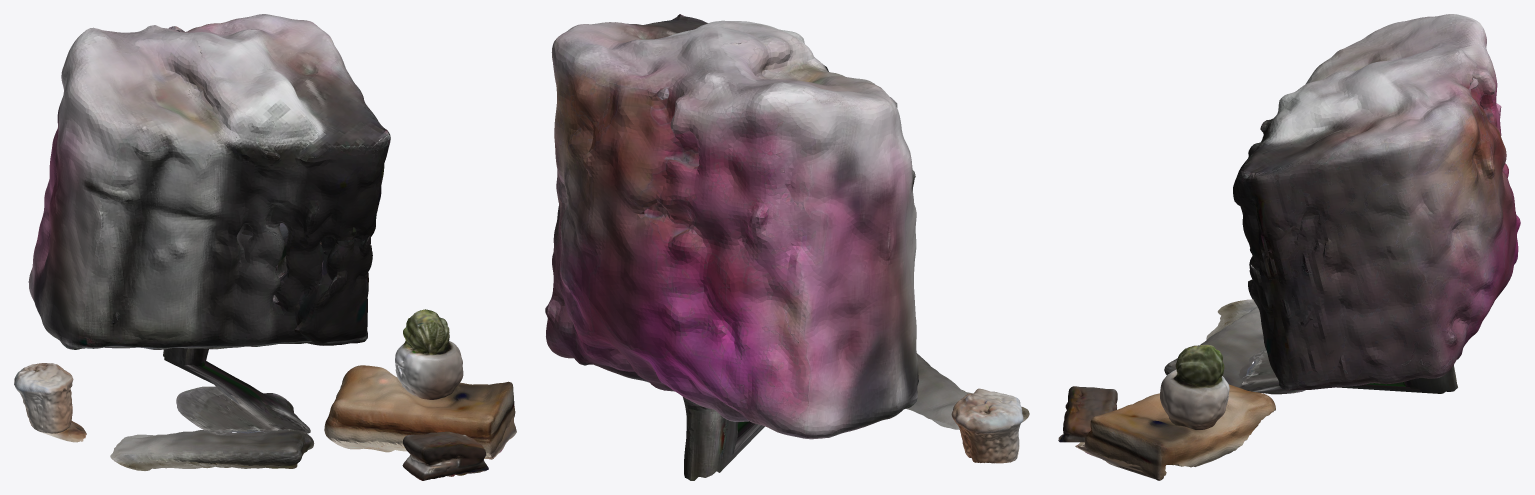
The model's file is gen3dsr_no_bg.glb.
The picture shows the model from 3 angles, left to right: view 1: azimuth 30°, elevation 25°; view 2: azimuth 150°, elevation 25°; view 3: azimuth 270°, elevation 25°; orthographic projection. The views are drawn at different scales.
Parts seen in each view (by area): view 1: 4.obj, 0.obj, 1.obj, 2.obj, 5.obj, 3.obj; view 2: 4.obj, 5.obj, 1.obj; view 3: 4.obj, 0.obj, 2.obj, 1.obj, 3.obj.
Boxes of the visible parts, x1,y1,x2,y2 form: 4.obj: (28,14,390,434); 0.obj: (324,365,516,459); 1.obj: (110,429,314,470); 2.obj: (395,309,463,399); 5.obj: (14,363,86,442); 3.obj: (402,431,488,480); 4.obj: (545,14,918,480); 5.obj: (951,388,1023,463); 1.obj: (906,353,1029,429); 4.obj: (1233,14,1520,394); 0.obj: (1075,384,1275,480); 2.obj: (1160,344,1229,429); 1.obj: (1164,299,1266,387); 3.obj: (1058,386,1117,442).
Bounding box in the file's own units: 1.04 × 0.8426 × 1.04.
6 materials, 6 textured.
